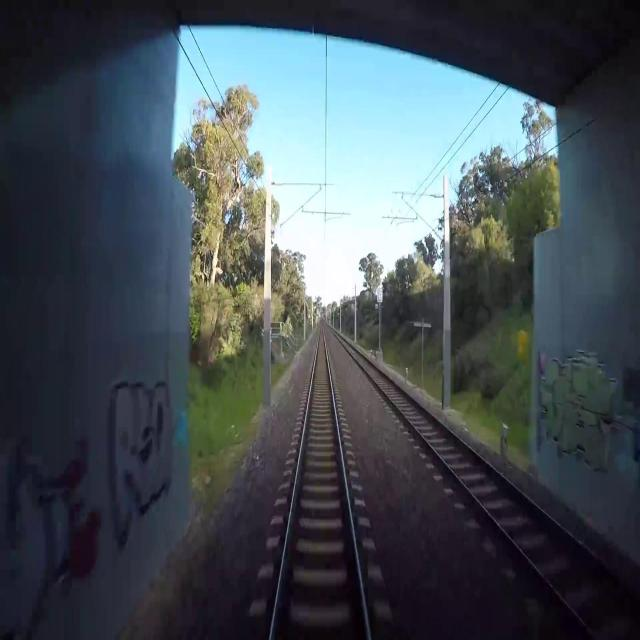rail-track: (343, 341, 640, 639), (272, 329, 367, 639)
